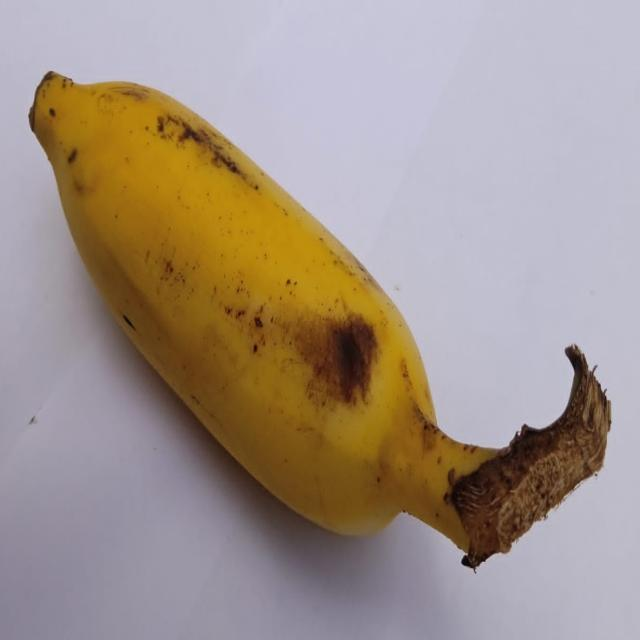banana: (30, 73, 610, 566)
